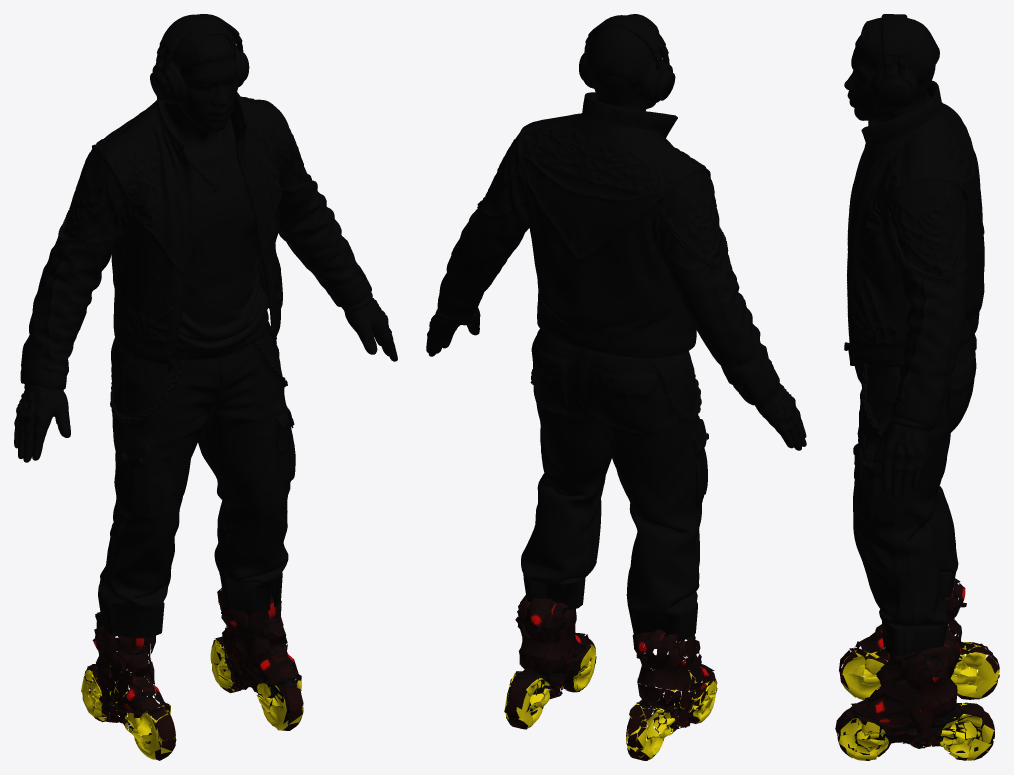
File: caali-g-v2.glb
The picture shows the model from 3 angles, left to right: view 1: azimuth 30°, elevation 25°; view 2: azimuth 150°, elevation 25°; view 3: azimuth 270°, elevation 25°; orthographic projection. The views are drawn at different scales.
Visible parts, largest first — view 1: CaaliG_LOD0; view 2: CaaliG_LOD0; view 3: CaaliG_LOD0.
Part boxes in pixels (box(x1,y1,x2,y2)): CaaliG_LOD0: box(14, 14, 397, 760); CaaliG_LOD0: box(426, 14, 806, 760); CaaliG_LOD0: box(835, 14, 999, 760).
Size of what is drawn, in the model's own units: 1.06 by 1.92 by 0.4034.
Materials: 1 (1 with a texture image).
